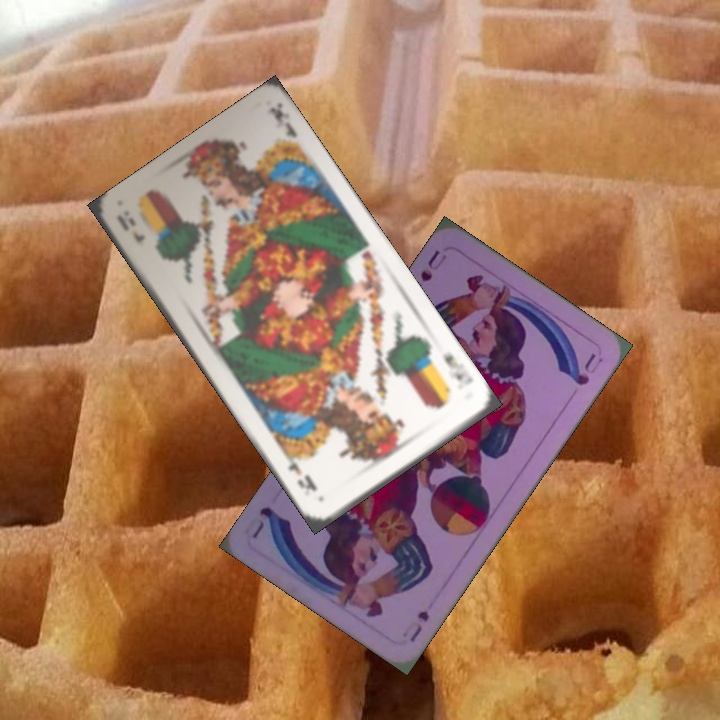EK: (438, 349, 476, 386), (113, 212, 148, 246)
SU: (416, 246, 450, 285), (405, 606, 432, 645)
